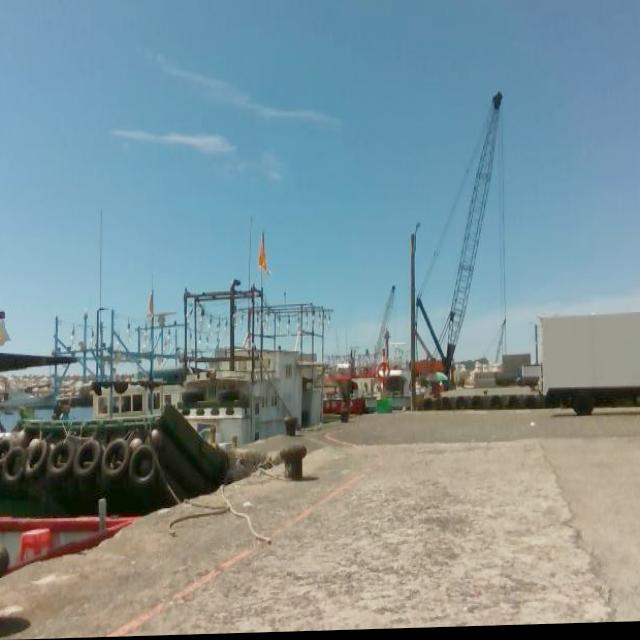pollute: (243, 500, 257, 511), (530, 422, 539, 430)
